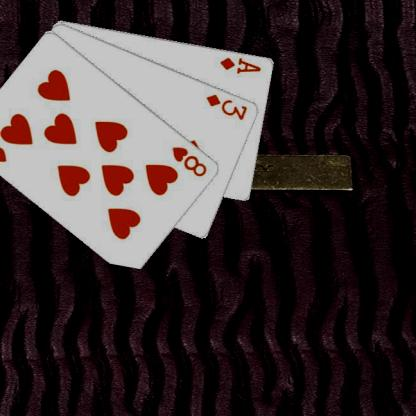3D: (204, 91, 249, 121)
8H: (170, 144, 209, 178), (0, 129, 8, 163)
AD: (218, 55, 262, 75)
